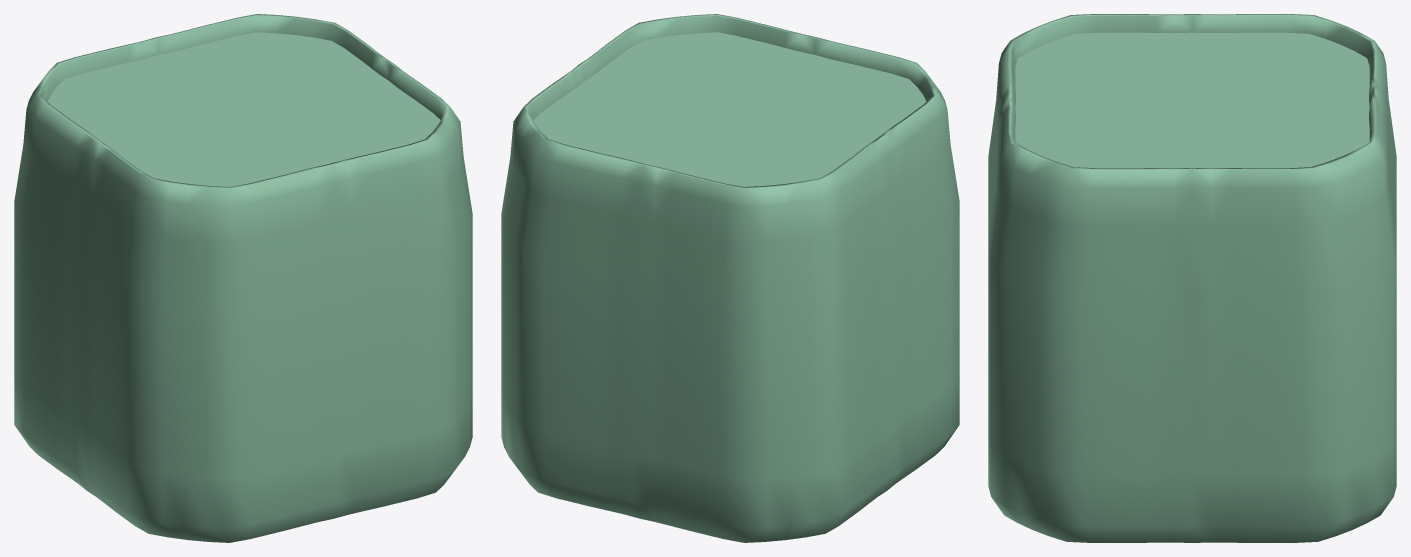
Rendered from board_cell.obj.
The picture shows the model from 3 angles, left to right: view 1: azimuth 30°, elevation 25°; view 2: azimuth 150°, elevation 25°; view 3: azimuth 270°, elevation 25°; orthographic projection. The views are drawn at different scales.
Visible parts, largest first — view 1: EnamelCell; view 2: EnamelCell; view 3: EnamelCell.
Boxes of the visible parts, x1,y1,x2,y2 form: EnamelCell: [14, 14, 472, 542]; EnamelCell: [501, 14, 959, 542]; EnamelCell: [988, 14, 1396, 542].
Bounding box in the file's own units: 1 × 1 × 1.
